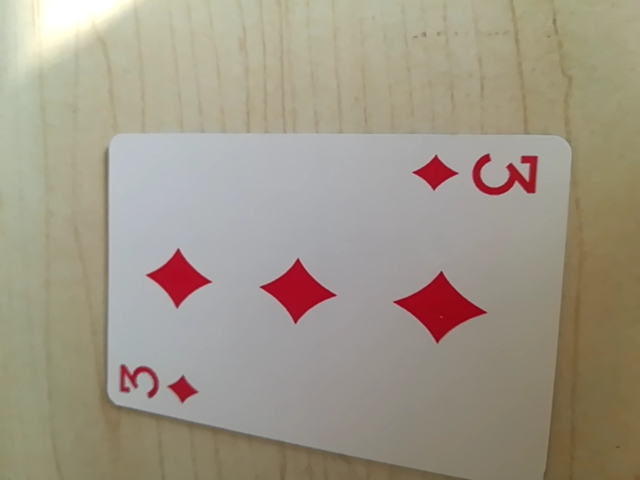fk 3: (411, 147, 544, 203), (117, 354, 204, 410)
